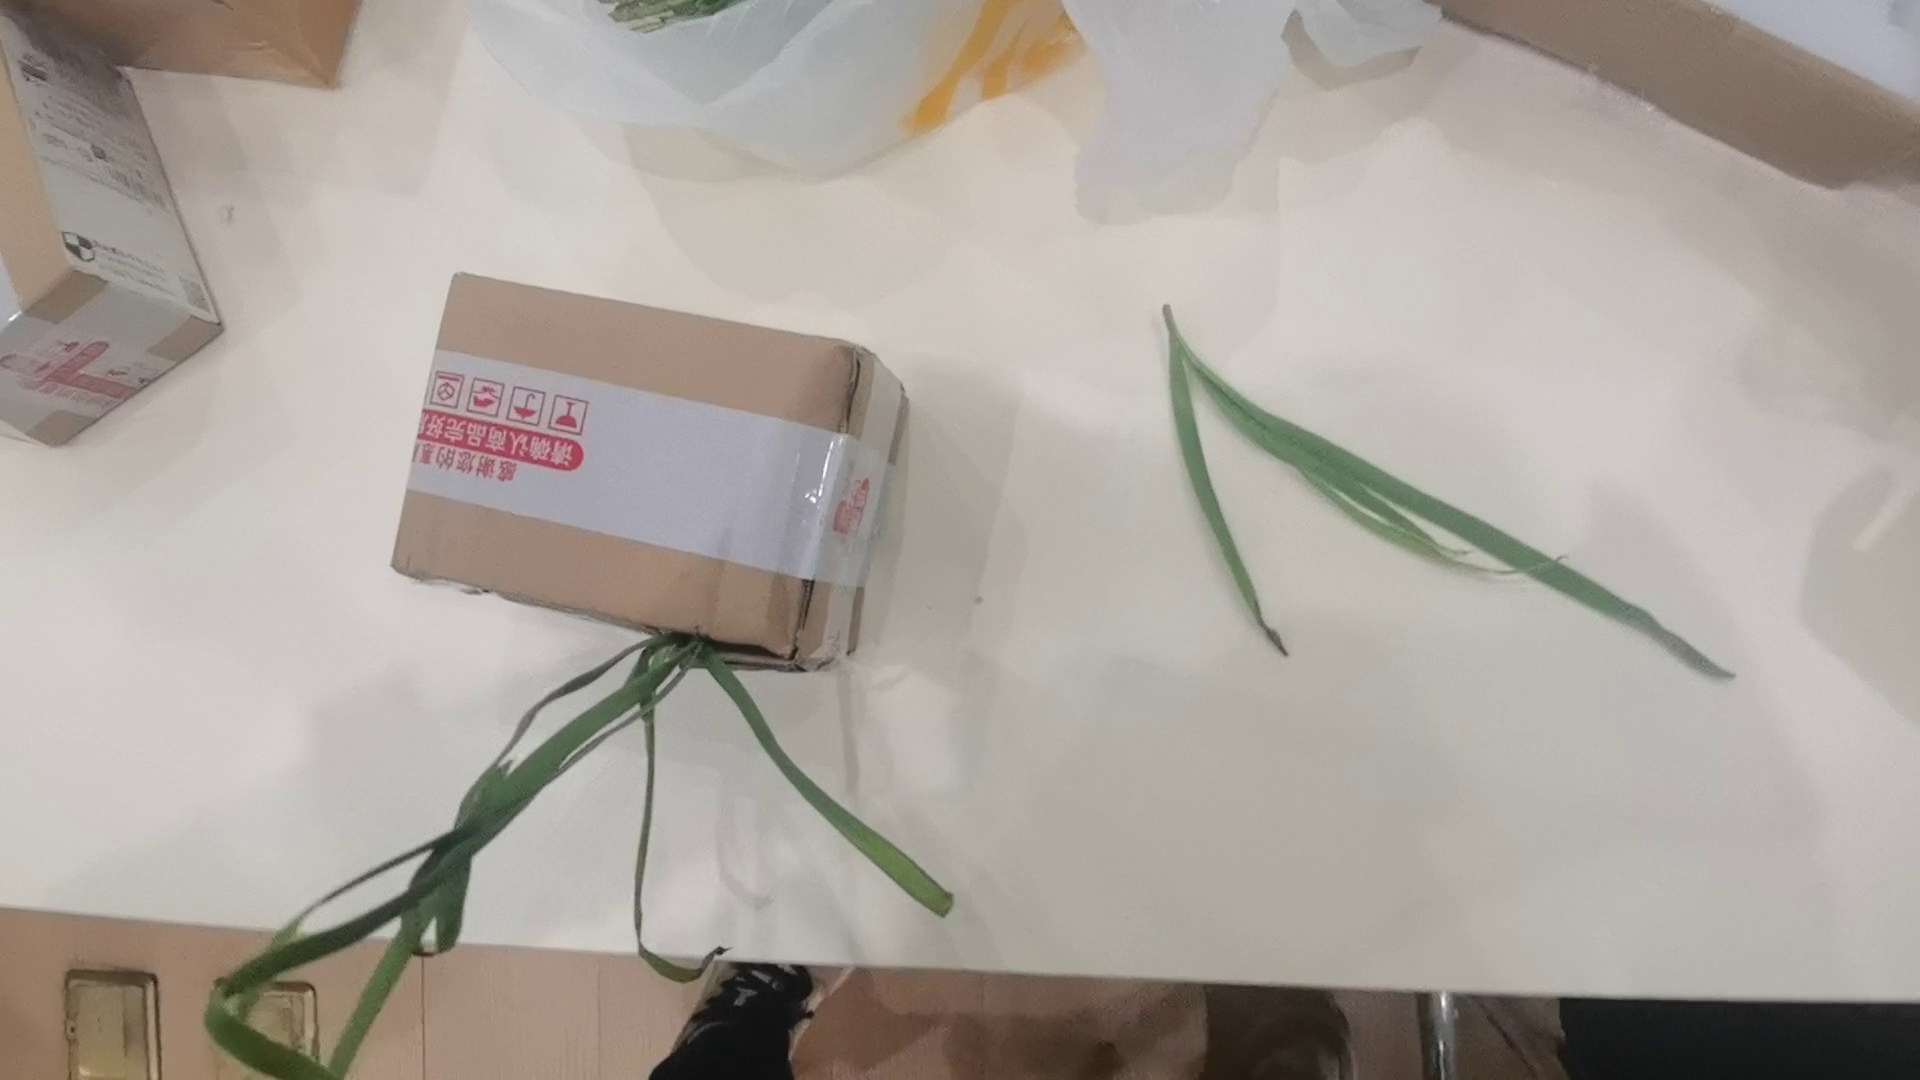chives: (175, 622, 976, 1080), (1151, 297, 1747, 699)
